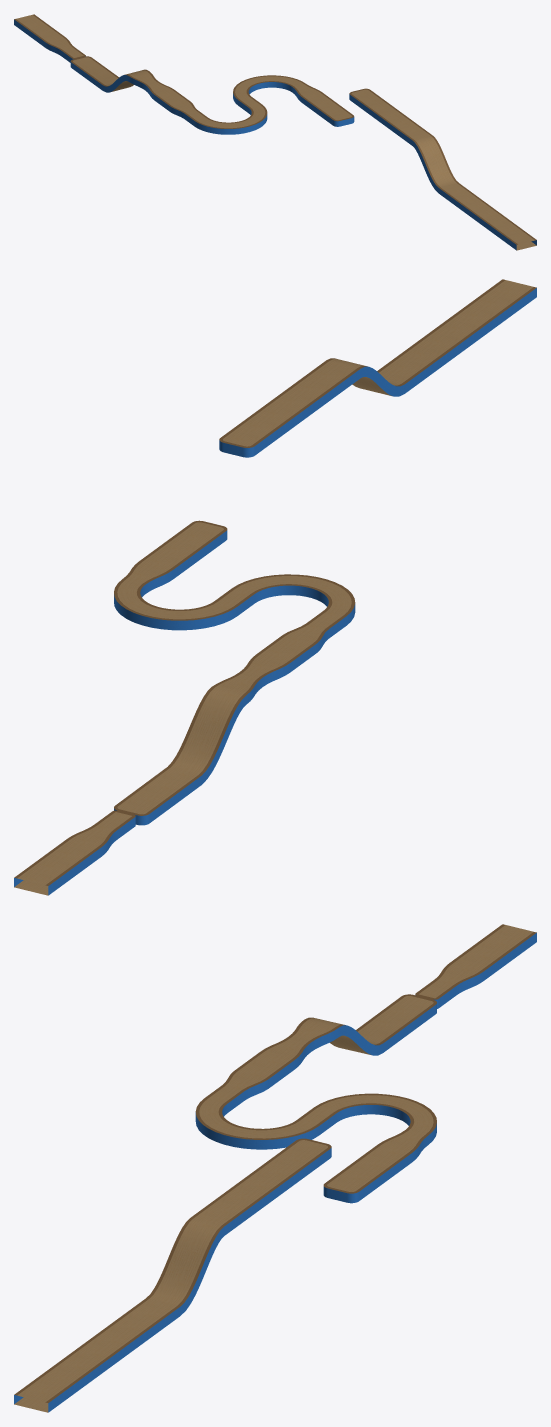
File: ramp_30.FBX
3 renders of one model, top to bottom at view 1: azimuth 30°, elevation 25°; view 2: azimuth 150°, elevation 25°; view 3: azimuth 330°, elevation 25°, orthographic. The views are drawn at different scales.
Visible parts, largest first — view 1: ramp_30; view 2: ramp_30; view 3: ramp_30.
Part boxes in pixels (x1=…): ramp_30: x1=14, y1=14, x2=536, y2=250; ramp_30: x1=14, y1=279, x2=536, y2=895; ramp_30: x1=14, y1=924, x2=536, y2=1412.
Bounding box in the file's own units: 2850 × 1522 × 15200.
